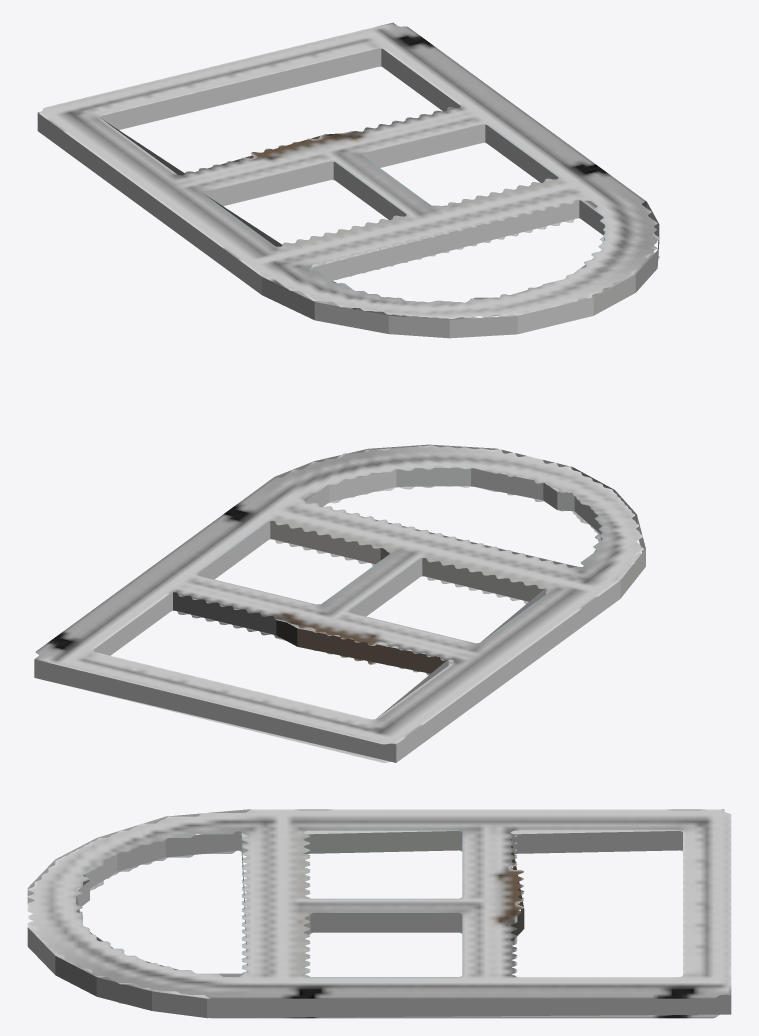
File: pz_native_fixtures_windows_white_51_frame.obj
3 renders of one model, top to bottom at view 1: azimuth 30°, elevation 25°; view 2: azimuth 150°, elevation 25°; view 3: azimuth 270°, elevation 25°, orthographic. The views are drawn at different scales.
Parts seen in each view (by area): view 1: pz_native_fixtures_windows_white_51_frame; view 2: pz_native_fixtures_windows_white_51_frame; view 3: pz_native_fixtures_windows_white_51_frame.
Boxes of the visible parts, bbox=[...] form: pz_native_fixtures_windows_white_51_frame: bbox=[37, 22, 659, 338]; pz_native_fixtures_windows_white_51_frame: bbox=[34, 444, 645, 762]; pz_native_fixtures_windows_white_51_frame: bbox=[27, 809, 731, 1018].
Bounding box in the file's own units: 0.875 × 0.04 × 1.35.
Materials: 1 (1 with a texture image).
